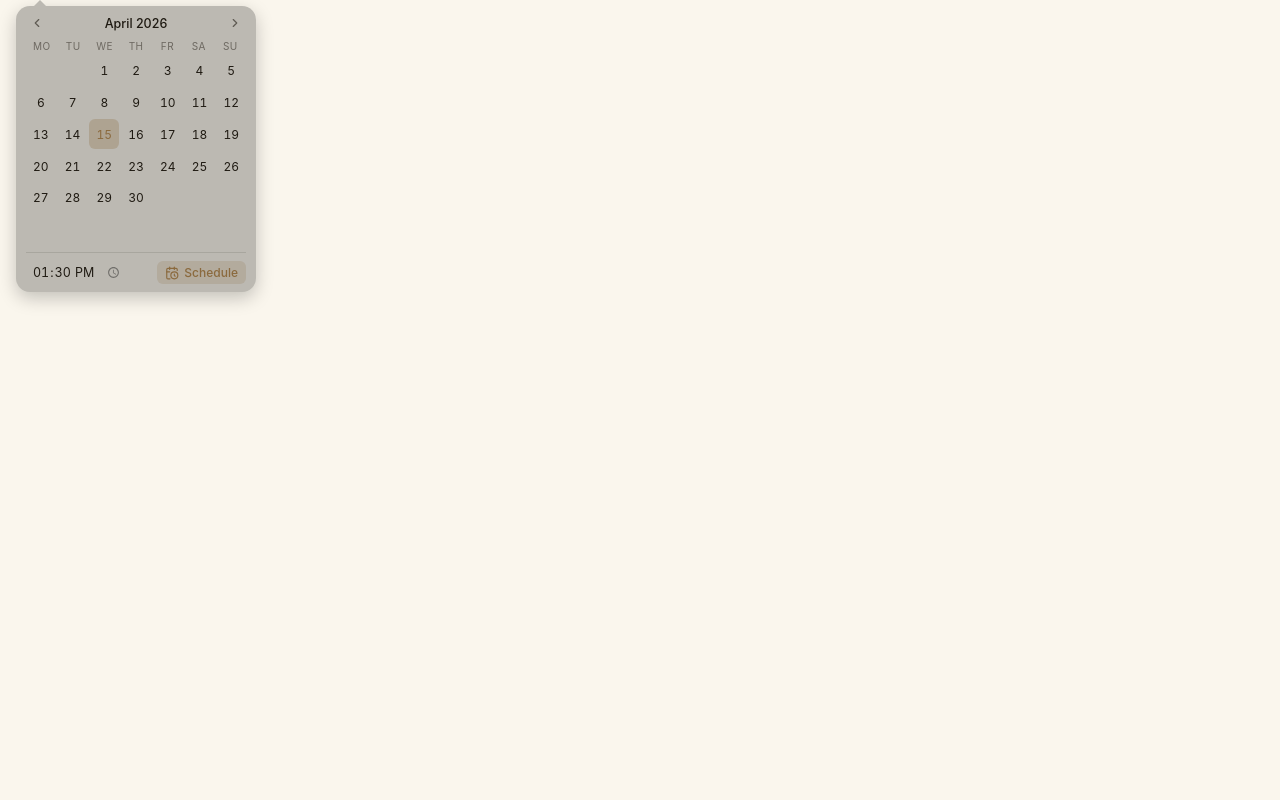
Scenario: DateTimeBubble — month nav + Escape › month nav shifts the calendar without committing
Click the button named "Next month".
click(235, 23)  # box [224,12,246,34]
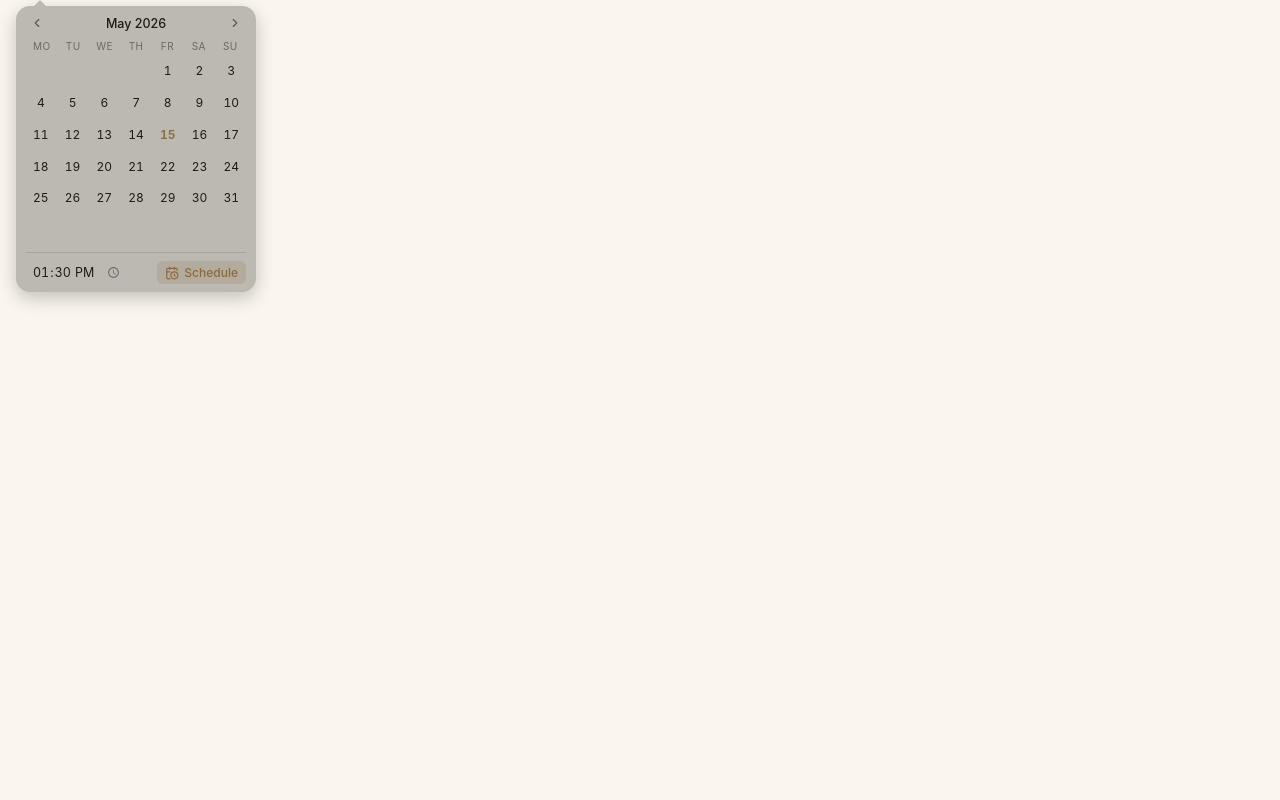
Result: the text with class "cal-month-label" reads "May 2026" at [106,16,166,30]
